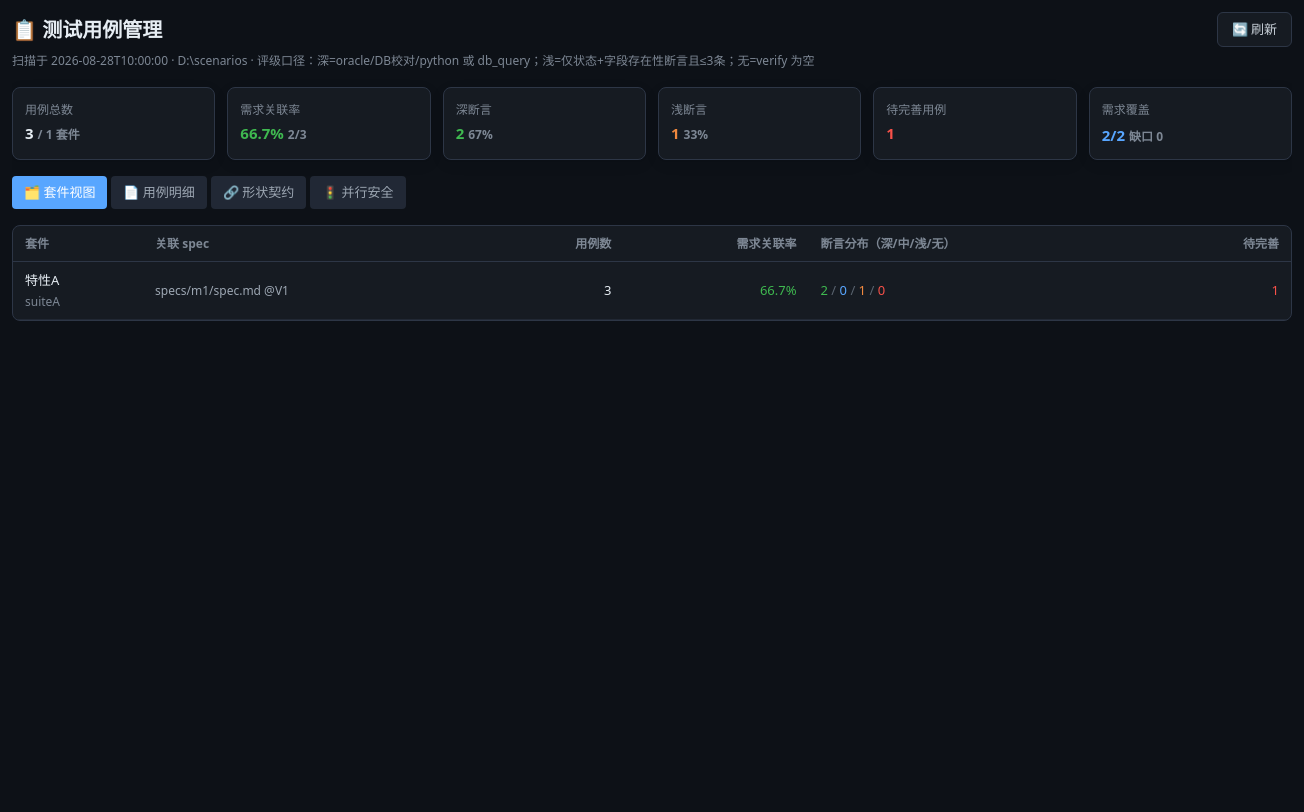
Test: ScenarioQuality 测试用例管理页 › 评级筛选收窄明细行并持久化
Expected: the text "特性A" is shown, [25, 271, 59, 289]
Click the button "📄 用例明细": (159, 192) [111, 176, 207, 209]
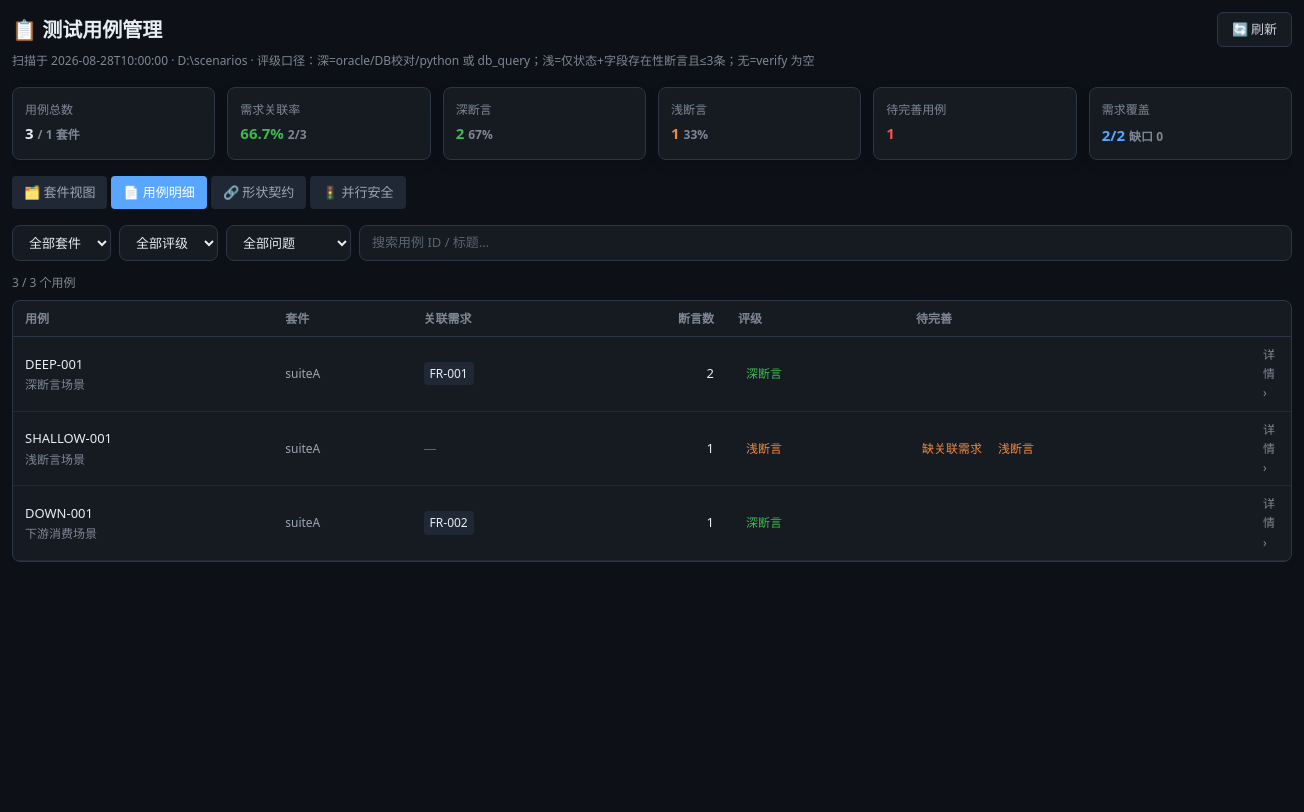
Select "浅断言" in the dropdown titled "按评级筛选": (168, 243) [119, 225, 218, 261]
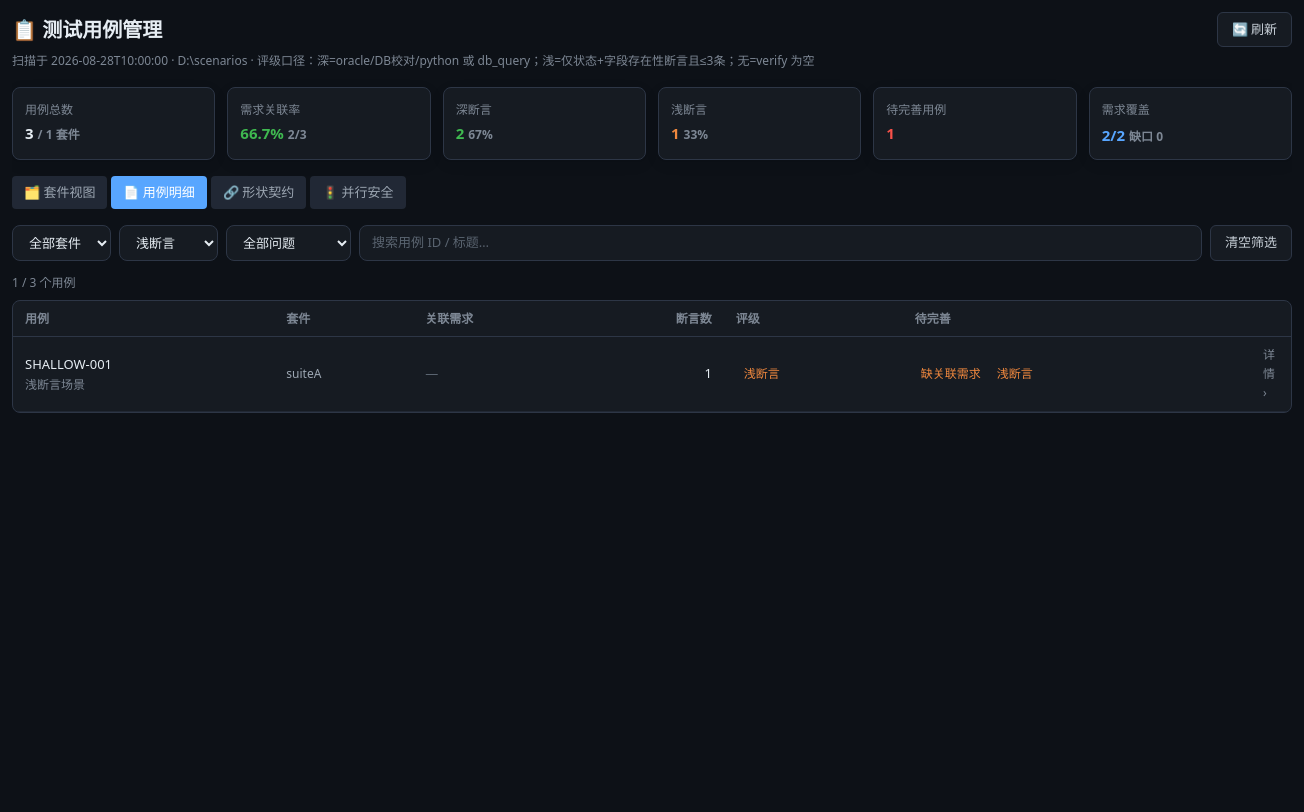
Expected: the text "SHALLOW-001" is shown, [25, 354, 112, 372]
Expected: the text "DEEP-001" is gone
